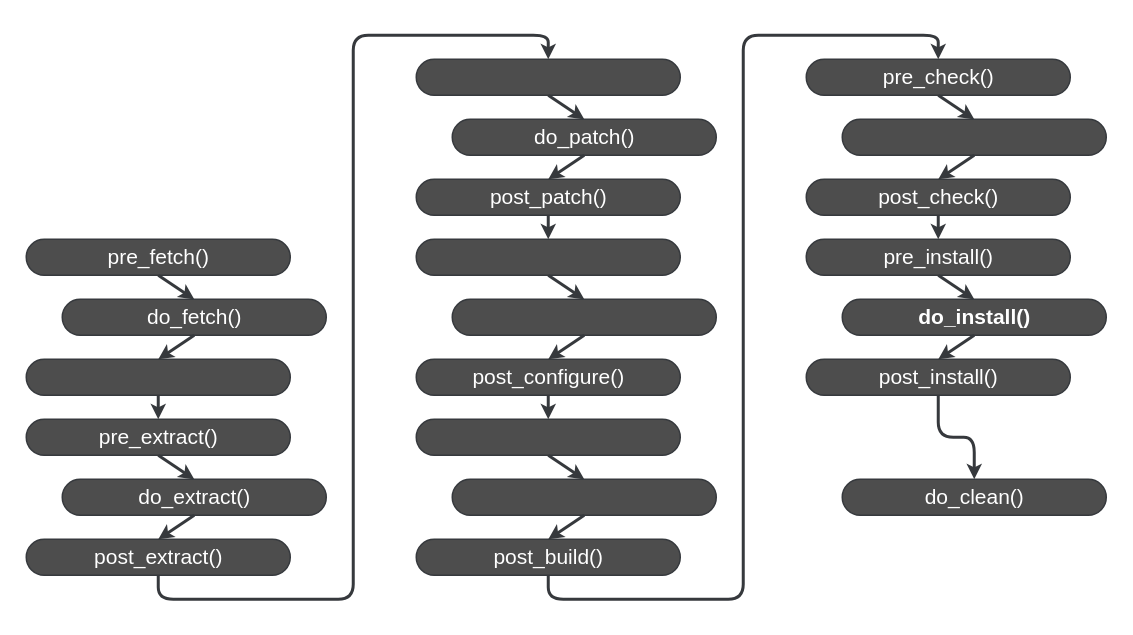
Image size: 1133x635. Some labels were removed from this diagram. Each missing label, with the centre of its shape:
"do_build()" belongs at pixel 583 496.
"do_check()" belongs at pixel 973 136.
"do_configure()" belongs at pixel 583 316.
"post_fetch()" belongs at pixel 157 376.
"pre_build()" belongs at pixel 547 436.
"pre_configure()" belongs at pixel 547 256.
"pre_patch()" belongs at pixel 547 76.
